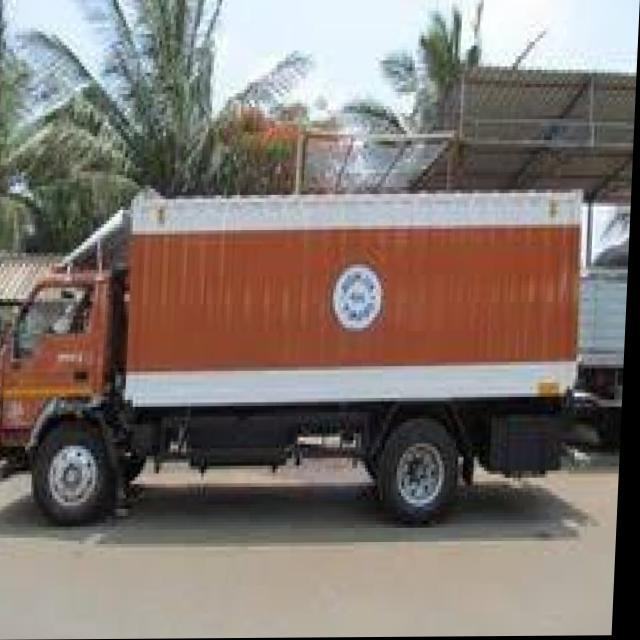covered: (0, 185, 591, 520)
